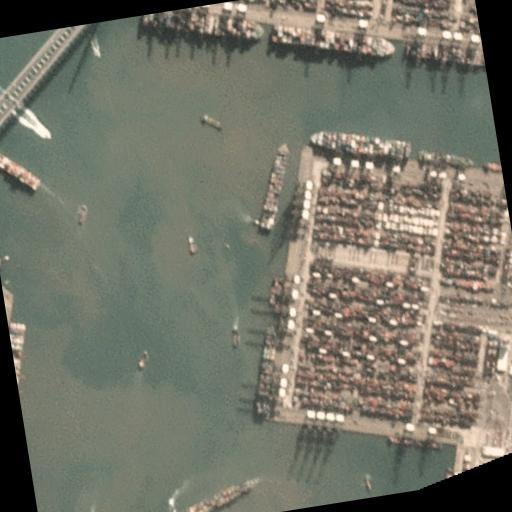ship: (270, 7, 394, 74), (306, 118, 410, 174), (244, 142, 300, 232), (240, 334, 290, 418), (8, 320, 44, 425), (0, 119, 43, 200), (168, 477, 265, 512), (416, 143, 472, 174), (0, 210, 12, 269), (202, 111, 228, 134), (31, 117, 53, 142), (134, 350, 152, 372), (74, 204, 90, 226), (89, 36, 103, 60), (230, 324, 242, 348), (187, 234, 198, 256), (362, 475, 374, 493)
